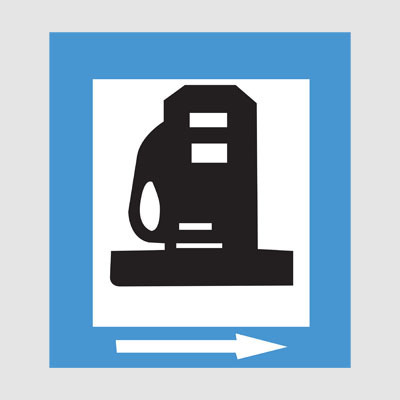fuel-station: (92, 81, 309, 327)
right turn: (114, 332, 289, 360)
